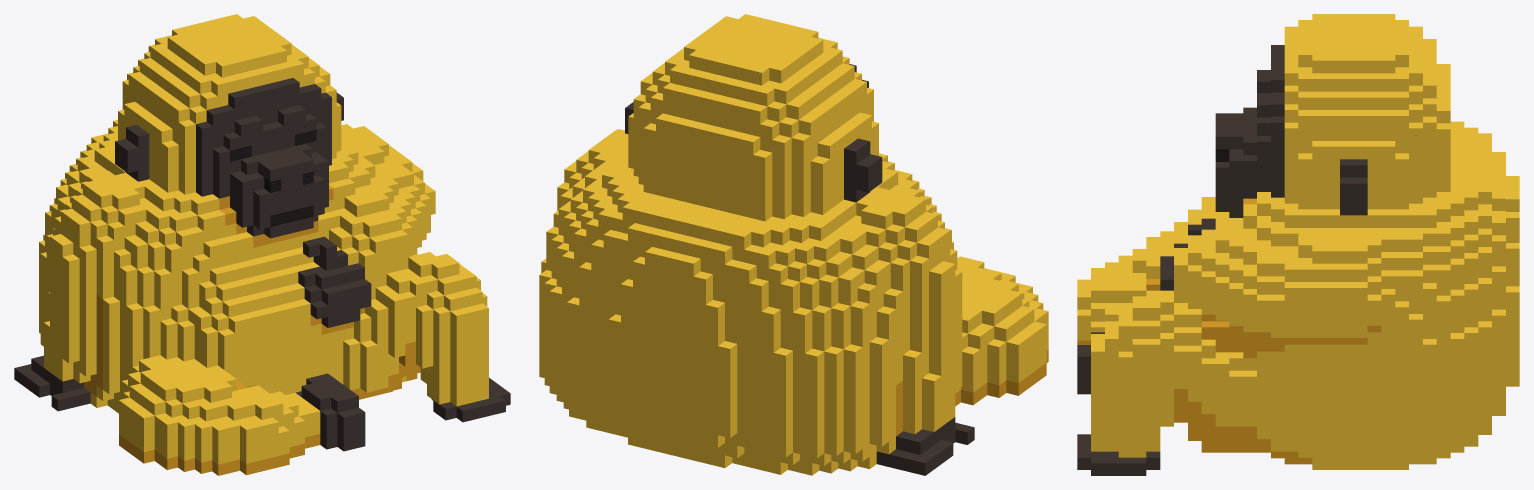
File: 4Card_1Lv.obj
3 views of the same model, side by side, from view 1: azimuth 30°, elevation 25°; view 2: azimuth 150°, elevation 25°; view 3: azimuth 270°, elevation 25° (orthographic). The views are drawn at different scales.
Size of the model in its own units: 3.2 by 2.8 by 3.2.
